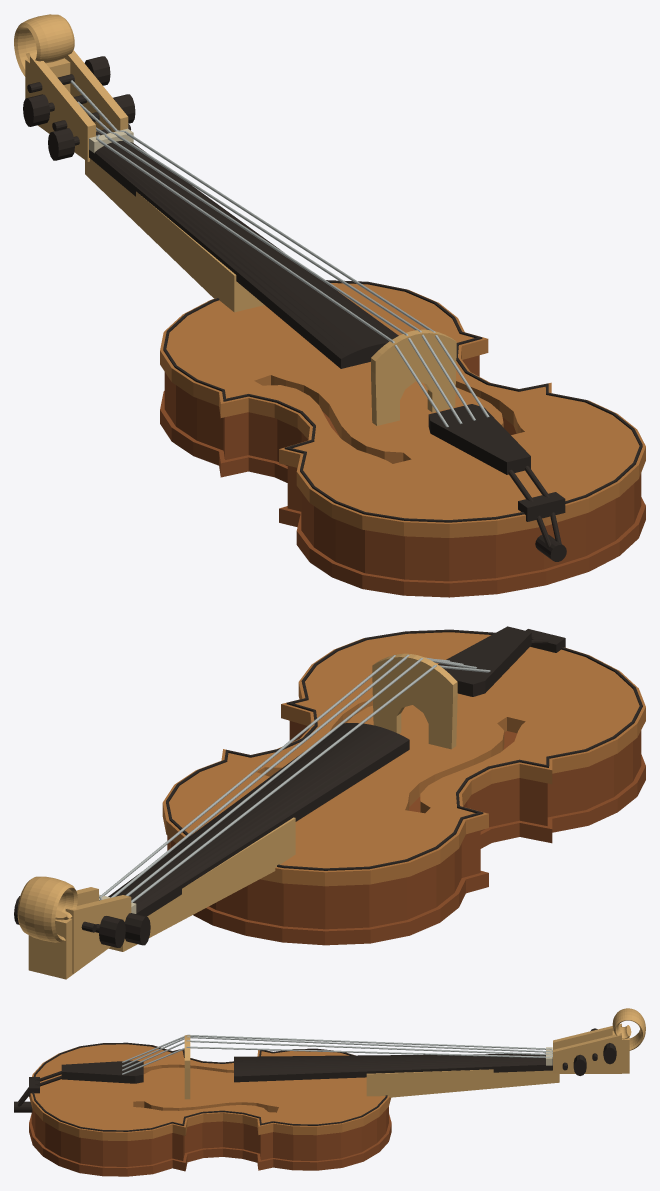
3 renders of one model, top to bottom at view 1: azimuth 30°, elevation 25°; view 2: azimuth 150°, elevation 25°; view 3: azimuth 270°, elevation 25°, orthographic. The views are drawn at different scales.
Parts seen in each view (by area): view 1: Body_Soundboard, Body_RibRing, Ebony_FretlessFingerboard, Body_Backplate, Maple_Neck, Maple_ArchedBridge, Ebony_Tailpiece, Purfling_Rim, Pegbox_Cheek_Left, Carved_SpiralScroll, Pegbox_Cheek_Right, String_04 (+4 smaller); view 2: Body_Soundboard, Body_RibRing, Ebony_FretlessFingerboard, Body_Backplate, Maple_ArchedBridge, Maple_Neck, Purfling_Rim, Ebony_Tailpiece, Carved_SpiralScroll, Pegbox_Cheek_Left, Pegbox_ScrollRoot, String_01 (+6 smaller); view 3: Body_Soundboard, Body_RibRing, Ebony_FretlessFingerboard, Body_Backplate, Maple_Neck, Pegbox_Cheek_Right, Ebony_Tailpiece, Purfling_Rim, String_03, String_02, String_01, String_04 (+4 smaller).
Part boxes in pixels (x1,y1,x2,y2): Body_Soundboard: (160,283,645,537); Body_RibRing: (164,355,641,581); Ebony_FretlessFingerboard: (89,141,398,368); Body_Backplate: (160,391,645,597); Maple_Neck: (85,158,264,312); Maple_ArchedBridge: (371,329,456,425); Ebony_Tailpiece: (428,404,530,474); Purfling_Rim: (163,280,642,522); Pegbox_Cheek_Left: (30,54,95,161); Carved_SpiralScroll: (14,14,74,76); Pegbox_Cheek_Right: (65,50,128,132); String_04: (70,80,489,417); Body_Soundboard: (162,632,645,886); Body_RibRing: (167,721,641,929); Ebony_FretlessFingerboard: (108,723,409,916); Body_Backplate: (193,731,645,945); Maple_ArchedBridge: (372,653,457,749); Maple_Neck: (109,817,295,951); Purfling_Rim: (166,629,642,870); Ebony_Tailpiece: (438,626,531,696); Carved_SpiralScroll: (17,876,77,942); Pegbox_Cheek_Left: (65,895,131,973); Pegbox_ScrollRoot: (28,918,73,979); String_01: (131,665,490,902); Body_Soundboard: (29,1044,390,1140); Body_RibRing: (31,1107,388,1166); Ebony_FretlessFingerboard: (234,1053,552,1082); Body_Backplate: (29,1114,391,1176); Maple_Neck: (366,1069,559,1097); Pegbox_Cheek_Right: (553,1033,621,1073); Ebony_Tailpiece: (61,1060,143,1083); Purfling_Rim: (32,1042,387,1131); String_03: (122,1040,552,1070); String_02: (122,1036,552,1066); String_01: (122,1034,552,1062); String_04: (122,1046,552,1074).
Size of the model in its own units: 0.228 by 0.1419 by 0.6776.
